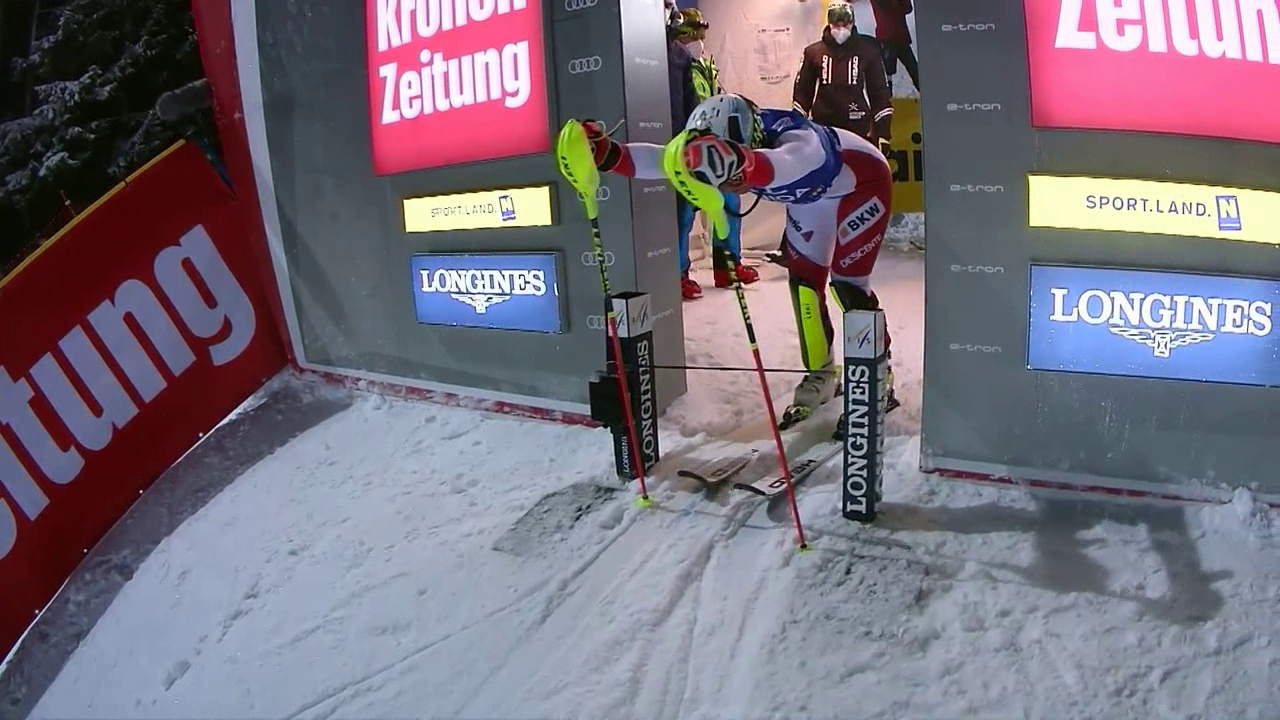audi: (566, 53, 607, 79), (561, 1, 603, 19)
etron: (939, 15, 994, 35), (949, 178, 1004, 197)
kronenzeitung: (380, 1, 531, 136)
longines: (1041, 283, 1277, 361), (403, 251, 565, 329), (835, 356, 888, 522), (627, 337, 665, 476)
